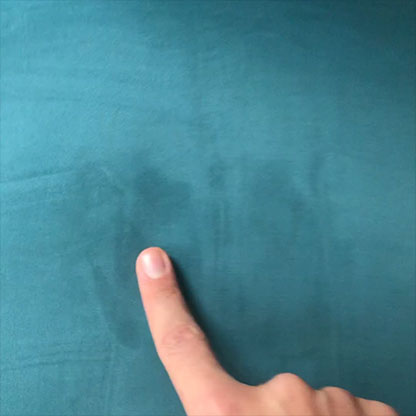fingertip: (126, 234, 183, 292)
